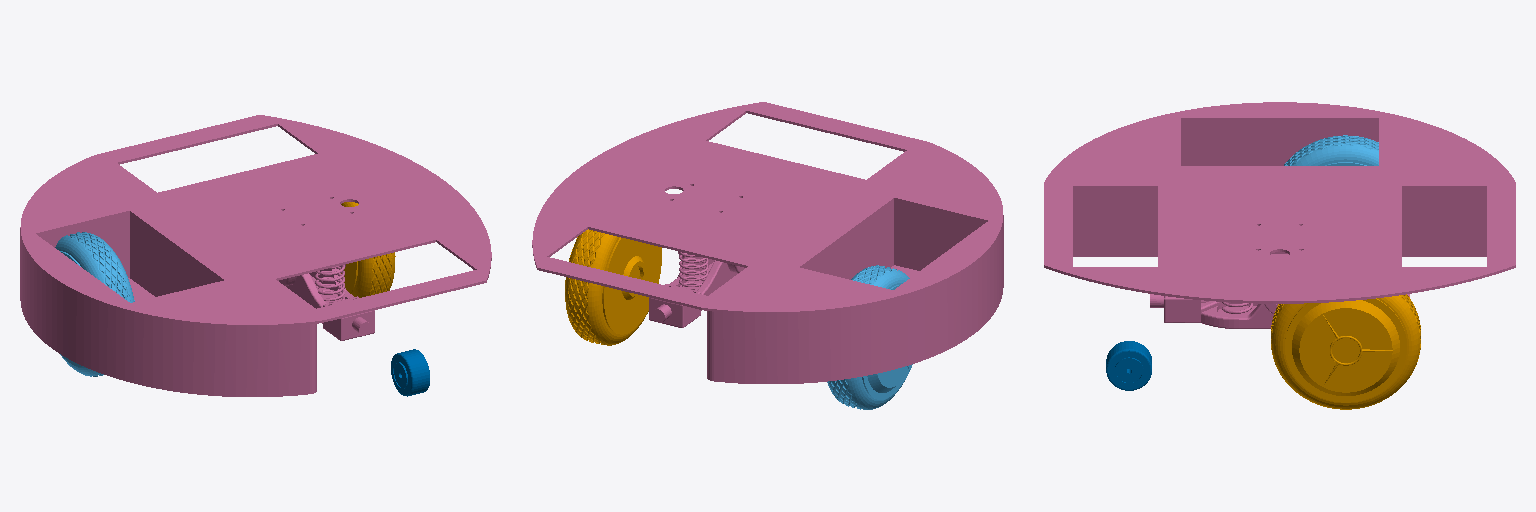
The robot description file, URDF, robot "Bobert":
<?xml version='1.0' encoding='utf-8'?>
<robot name="Bobert">

    <link name="wheel_left">
        <inertial>
            <origin xyz="-1.4935609762289915e-08 -1.8299848179026412e-08 0.026516369504124688" rpy="0.0 -0.0 0.0" />
            <mass value="7.638842452373928" />
            <inertia ixx="0.012512657679018685" iyy="0.012512658804138987" izz="0.02157054049252609" ixy="-6.789136301754706e-09" iyz="-1.6808125724576766e-10" ixz="-2.4400822875555903e-10" />
        </inertial>
        <visual name="wheel_left_visual">
            <origin xyz="0.0018014094929013603 -0.0003077447108111464 0.02818398496719789" rpy="3.141592653589793 -1.2246467991473532e-16 3.141592653589793" />
            <geometry>
                <mesh filename="package://robot_description/meshes/wheel_left.stl" scale="0.001 0.001 0.001" />
            </geometry>
        </visual>
        <collision name="wheel_left_collision">
            <origin xyz="0.0018014094929013603 -0.0003077447108111464 0.02818398496719789" rpy="3.141592653589793 -1.2246467991473532e-16 3.141592653589793" />
            <geometry>
                <mesh filename="package://robot_description/meshes/wheel_left.stl" scale="0.001 0.001 0.001" />
            </geometry>
        </collision>
    </link>


    <link name="wheel_rigth">
        <inertial>
            <origin xyz="4.535097122726484e-08 -8.975340488603934e-08 0.026516362985275654" rpy="0.0 -0.0 0.0" />
            <mass value="7.638838185872932" />
            <inertia ixx="0.012512652636455568" iyy="0.01251263298450045" izz="0.02157051054295618" ixy="1.8605187536435697e-08" iyz="-6.805375860063911e-09" ixz="3.774993054261877e-09" />
        </inertial>
        <visual name="wheel_rigth_visual">
            <origin xyz="4.222558303013102e-11 6.0015814540292925e-12 0.02450000000000058" rpy="2.7755575615629007e-16 2.775557561562944e-17 -1.844111719858924e-30" />
            <geometry>
                <mesh filename="package://robot_description/meshes/wheel_rigth.stl" scale="0.001 0.001 0.001" />
            </geometry>
        </visual>
        <collision name="wheel_rigth_collision">
            <origin xyz="4.222558303013102e-11 6.0015814540292925e-12 0.02450000000000058" rpy="2.7755575615629007e-16 2.775557561562944e-17 -1.844111719858924e-30" />
            <geometry>
                <mesh filename="package://robot_description/meshes/wheel_rigth.stl" scale="0.001 0.001 0.001" />
            </geometry>
        </collision>
    </link>



    <link name="rotatori_suport_left">
        <inertial>
            <origin xyz="-4.076282717591084e-08 0.00888320645449534 0.012446260582561007" rpy="0.0 -0.0 0.0" />
            <mass value="0.21087231289276429" />
            <inertia ixx="9.649552760798881e-05" iyy="7.966891161717473e-05" izz="0.00011210414142136423" ixy="1.565786042490025e-10" iyz="-2.7438068639805717e-05" ixz="3.06575255416483e-10" />
        </inertial>
        <visual name="rotatori_suport_left_visual">
            <origin xyz="3.552713678800501e-16 5.151434834260726e-16 -0.0020000000000000373" rpy="-3.944304526105064e-31 -3.6977854932234876e-31 1.5707963267948963" />
            <geometry>
                <mesh filename="package://robot_description/meshes/rotatori_suport_left.stl" scale="0.001 0.001 0.001" />
            </geometry>
        </visual>
        <collision name="rotatori_suport_left_collision">
            <origin xyz="3.552713678800501e-16 5.151434834260726e-16 -0.0020000000000000373" rpy="-3.944304526105064e-31 -3.6977854932234876e-31 1.5707963267948963" />
            <geometry>
                <mesh filename="package://robot_description/meshes/rotatori_suport_left.stl" scale="0.001 0.001 0.001" />
            </geometry>
        </collision>
    </link>
    <link name="rotatori_suport_rigth">
        <inertial>
            <origin xyz="-4.076282774434503e-08 0.008883206454495411 0.012446260582561042" rpy="0.0 -0.0 0.0" />
            <mass value="0.21087231289276429" />
            <inertia ixx="9.649552760798794e-05" iyy="7.96689116171743e-05" izz="0.00011210414142136336" ixy="1.5657860381532163e-10" iyz="-2.7438068639805283e-05" ixz="3.0657525498280214e-10" />
        </inertial>
        <visual name="rotatori_suport_rigth_visual">
            <origin xyz="-2.3092638912203257e-16 5.861977570020827e-16 -0.0020000000000000018" rpy="-3.944304526105064e-31 -3.6977854932234876e-31 1.5707963267948963" />
            <geometry>
                <mesh filename="package://robot_description/meshes/rotatori_suport_rigth.stl" scale="0.001 0.001 0.001" />
            </geometry>
        </visual>
        <collision name="rotatori_suport_rigth_collision">
            <origin xyz="-2.3092638912203257e-16 5.861977570020827e-16 -0.0020000000000000018" rpy="-3.944304526105064e-31 -3.6977854932234876e-31 1.5707963267948963" />
            <geometry>
                <mesh filename="package://robot_description/meshes/rotatori_suport_rigth.stl" scale="0.001 0.001 0.001" />
            </geometry>
        </collision>
    </link>



    <link name="road_left">
        <inertial>
            <origin xyz="0 0 -0.013999997918070264" rpy="0.0 -0.0 0.0" />
            <mass value="0.3614984125144465" />
            <inertia ixx="7.236692462675356e-05" iyy="7.236692463010244e-05" izz="0.00010732079109369158" ixy="3.3603255944047293e-80" iyz="-2.168404344971009e-19" ixz="-1.734723475976807e-18" />
        </inertial>
        <visual name="road_left_visual">
            <origin xyz="-4.973799150320702e-16 -8.881784197001253e-18 -0.013999997918070264" rpy="0 0 0" />
            <geometry>
                <mesh filename="package://robot_description/meshes/road_left.stl" scale="0.001 0.001 0.001" />
            </geometry>
        </visual>
        <collision name="road_left_collision">
            <origin xyz="-4.973799150320702e-16 -8.881784197001253e-18 -0.013999997918070264" rpy="0 0 0" />
            <geometry>
                <mesh filename="package://robot_description/meshes/road_left.stl" scale="0.001 0.001 0.001" />
            </geometry>
        </collision>
    </link>
    <link name="road_rigth">
        <inertial>
            <origin xyz="0 0 -0.013999997918070264" rpy="0.0 -0.0 0.0" />
            <mass value="0.3614984125144465" />
            <inertia ixx="7.236692462675529e-05" iyy="7.236692463011112e-05" izz="0.00010732079109369679" ixy="3.3603255944047293e-80" iyz="-2.168404344971009e-19" ixz="-2.6020852139652106e-18" />
        </inertial>
        <visual name="road_rigth_visual">
            <origin xyz="-5.684341886080802e-16 2.6645352591003756e-17 -0.013999997918070833" rpy="0 0 0" />
            <geometry>
                <mesh filename="package://robot_description/meshes/road_rigth.stl" scale="0.001 0.001 0.001" />
            </geometry>
        </visual>
        <collision name="road_rigth_collision">
            <origin xyz="-5.684341886080802e-16 2.6645352591003756e-17 -0.013999997918070833" rpy="0 0 0" />
            <geometry>
                <mesh filename="package://robot_description/meshes/road_rigth.stl" scale="0.001 0.001 0.001" />
            </geometry>
        </collision>
    </link>



    <link name="base_link">
        <inertial>
            <origin xyz="1.0416063651813322e-05 -0.0990788628779701 -0.04486487968208902" rpy="0.0 0.0 0.0" />
            <mass value="40.76877140504577" />
            <inertia ixx="0.370897302830673" iyy="0.7646152174799792" izz="1.0695799673956226" ixy="-7.564105720085675e-05" iyz="-0.010092334706648312" ixz="1.7270616578606978e-06" />
        </inertial>
        <visual name="base_link_visual">
            <origin xyz="0.0 0.0 0.0" rpy="0.0 0.0 0.0" />
            <geometry>
                <mesh filename="package://robot_description/meshes/base_link.stl" scale="0.001 0.001 0.001" />
            </geometry>
        </visual>
        <collision name="base_link_collision">
            <origin xyz="0.0 0.0 0.0" rpy="0.0 0.0 0.0" />
            <geometry>
                <mesh filename="package://robot_description/meshes/base_link.stl" scale="0.001 0.001 0.001" />
            </geometry>
        </collision>
    </link>



    <joint name="base_link_Revolución-3" type="continuous">
        <origin xyz="0.13849999999999957 0.06974999999999972 -0.08300800000000001" rpy="3.141592653589793 -1.5707963267948966 0" />
        <parent link="base_link" />
        <child link="wheel_left" />
        <axis xyz="0.0 1.5496766561079998e-61 1.0" />
    </joint>
    <joint name="base_link_Revolución-4" type="continuous">
        <origin xyz="-0.13849999999999943 0.06974999999999974 -0.08300800000000001" rpy="-1.110223024625148e-16 -1.5707963267948966 0" />
        <parent link="base_link" />
        <child link="wheel_rigth" />
        <axis xyz="-0.0 1.5496766561079998e-61 1.0" />
    </joint>



    <joint name="base_link_Revolución-5" type="continuous">
        <origin xyz="-0.11499999999999955 -0.13499999999999954 -0.095" rpy="3.141592653589793 -3.944304526105065e-31 -1.110223024625148e-16" />
        <parent link="base_link" />
        <child link="rotatori_suport_rigth" />
        <axis xyz="0.0 0.0 1.0" />
    </joint>
    <joint name="base_link_Revolución-6" type="continuous">
        <origin xyz="0.11499999999999964 -0.13499999999999956 -0.095" rpy="3.141592653589793 -3.944304526105065e-31 -1.110223024625148e-16" />
        <parent link="base_link" />
        <child link="rotatori_suport_left" />
        <axis xyz="0.0 0.0 1.0" />
    </joint>

    
    <joint name="rotatori_suport_left_Revolución-7" type="continuous">
        <origin xyz="0.014137249999999995 0.025 0.0435" rpy="0 1.5707963267948966 0" />
        <parent link="rotatori_suport_left" />
        <child link="road_left" />
        <axis xyz="0 -0.0 1" />
    </joint>
    <joint name="rotatori_suport_rigth_Revolución-8" type="continuous">
        <origin xyz="0.014137249999999995 0.025 0.0435" rpy="0 1.5707963267948966 0" />
        <parent link="rotatori_suport_rigth" />
        <child link="road_rigth" />
        <axis xyz="0 0 1" />
    </joint>
</robot>

--- What the picture shows (computed from the rendered views, not written in the file) ---
3 views of the same robot in one strip: view 1: azimuth 30°, elevation 25°; view 2: azimuth 150°, elevation 25°; view 3: azimuth 270°, elevation 25° (orthographic).
Model Bobert with 7 links and 6 joints (6 continuous), rooted at base_link, posed every joint at zero.
Links seen in each view (by area): view 1: base_link, wheel_rigth, wheel_left, road_left; view 2: base_link, wheel_left, wheel_rigth; view 3: base_link, wheel_left, wheel_rigth, road_left.
Link boxes in pixels (box(x1,y1,x2,y2)): base_link: box(20, 115, 491, 396); wheel_rigth: box(55, 232, 134, 376); wheel_left: box(341, 202, 395, 297); road_left: box(391, 349, 429, 396); base_link: box(532, 102, 1003, 383); wheel_left: box(565, 229, 661, 345); wheel_rigth: box(827, 265, 912, 409); base_link: box(1044, 102, 1515, 328); wheel_left: box(1271, 294, 1420, 409); wheel_rigth: box(1284, 135, 1378, 165); road_left: box(1106, 341, 1151, 390).
Size in the robot's own frame: 0.4999 by 0.5 by 0.163 metres.
4 mesh visuals loaded from 7 distinct referenced files (4 binary STL); not drawn: 3 (reference not matched to a file when rendering).
